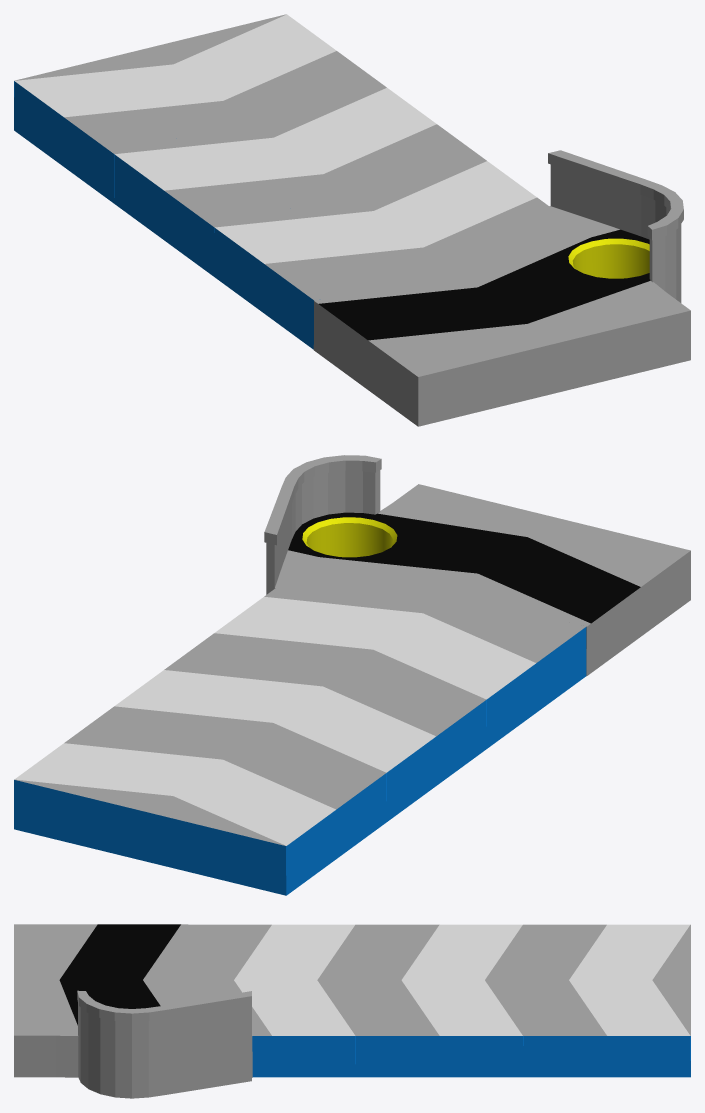
The model's file is bilardo yolu delikler5.fbx.
3 renders of one model, top to bottom at view 1: azimuth 30°, elevation 25°; view 2: azimuth 150°, elevation 25°; view 3: azimuth 270°, elevation 25°, orthographic. The views are drawn at different scales.
Visible parts, largest first — view 1: Box055, Box056, polySurface6; view 2: Box055, Box056, polySurface6; view 3: Box055, Box056, polySurface6.
Part boxes in pixels (bbox=[...]): Box055: bbox=[14, 14, 584, 349]; Box056: bbox=[313, 206, 690, 426]; polySurface6: bbox=[548, 150, 683, 302]; Box055: bbox=[14, 561, 586, 895]; Box056: bbox=[275, 484, 690, 676]; polySurface6: bbox=[264, 455, 381, 594]; Box055: bbox=[188, 924, 690, 1077]; Box056: bbox=[14, 924, 252, 1077]; polySurface6: bbox=[77, 990, 251, 1098].
Size of the model in its own units: 269 by 80.6 by 574.
